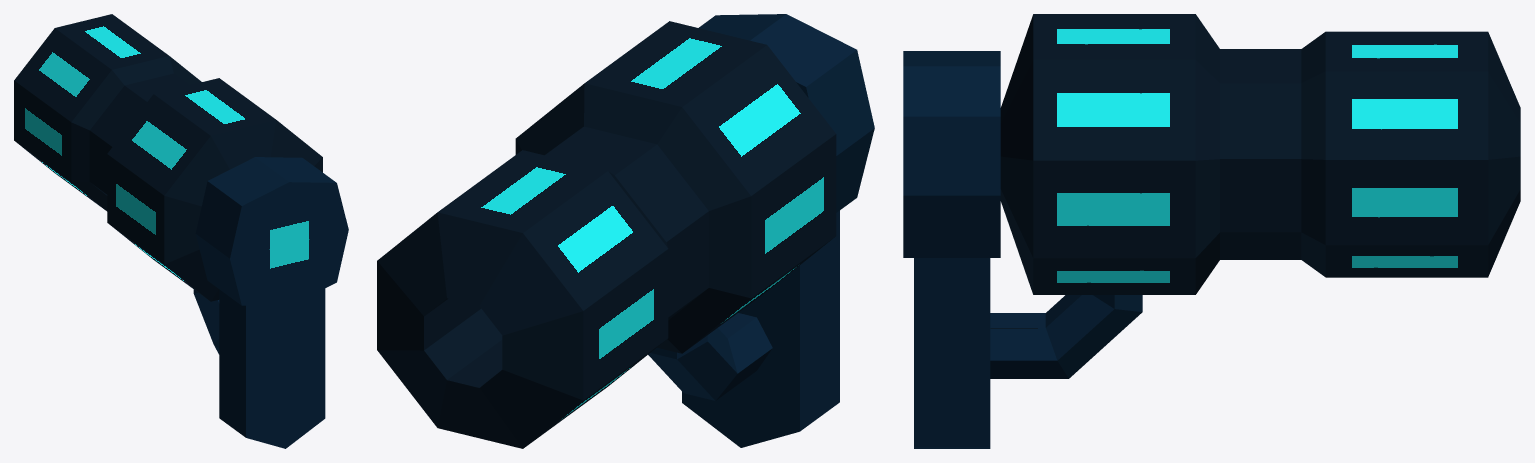
The model's file is gun.gltf.
The picture shows the model from 3 angles, left to right: view 1: azimuth 30°, elevation 25°; view 2: azimuth 150°, elevation 25°; view 3: azimuth 270°, elevation 25°; orthographic projection. The views are drawn at different scales.
Parts seen in each view (by area): view 1: tube, cuboid (×2), torus; view 2: tube, cuboid (×2), torus; view 3: tube, cuboid (×2), torus.
Part boxes in pixels (<box>): tube: <box>14,14,322,301</box>; cuboid (×2): <box>195,157,348,448</box>; torus: <box>193,289,219,354</box>; tube: <box>377,21,836,448</box>; cuboid (×2): <box>682,14,874,447</box>; torus: <box>648,313,772,400</box>; tube: <box>1000,14,1520,294</box>; cuboid (×2): <box>903,51,1000,448</box>; torus: <box>990,295,1142,378</box>.
Bounding box in the file's own units: 0.5 × 0.875 × 1.19.
1 material, 1 textured.
